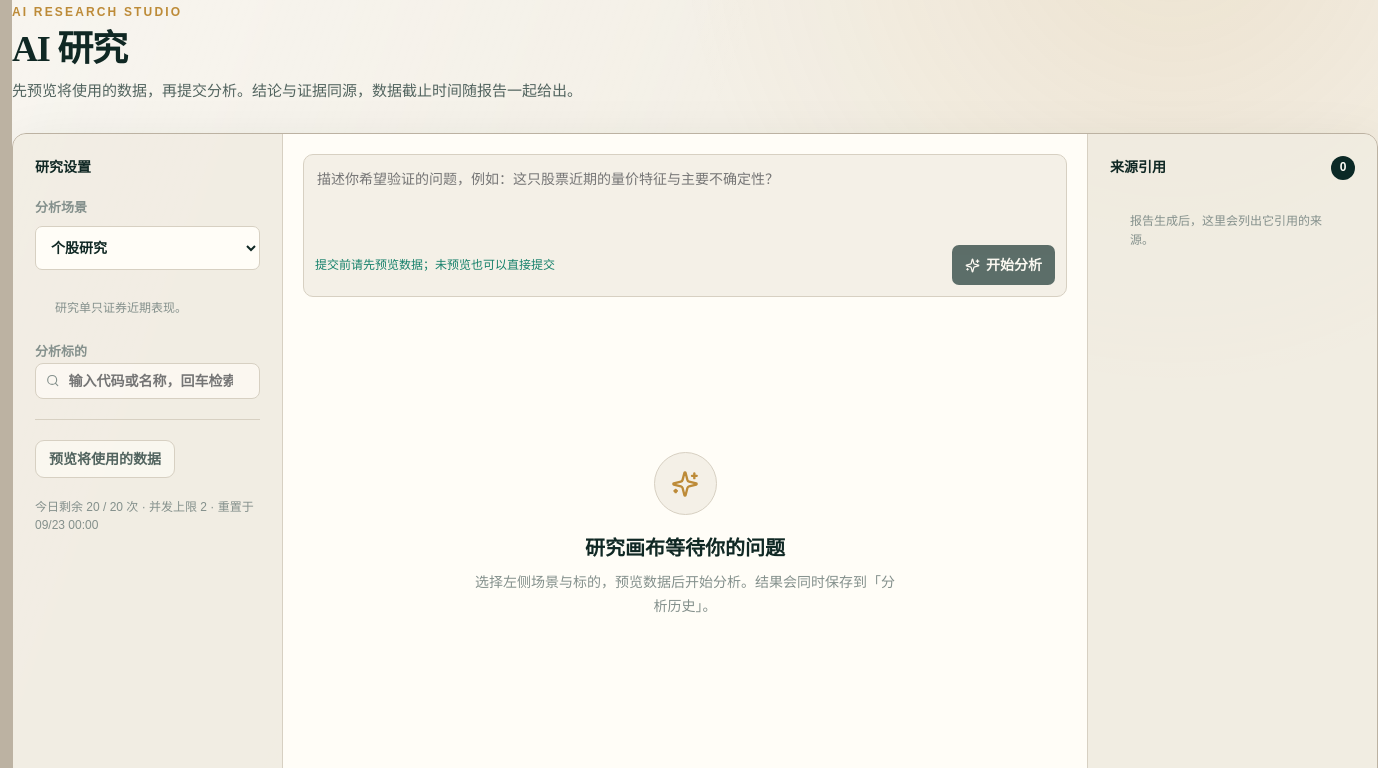
AI 研究工作台 › SSE 不可用时退回每 3 秒轮询，闭环不断
Step 1. Type "600519" into the search field labelled "分析标的" → (158, 381), box [66,369,249,393]
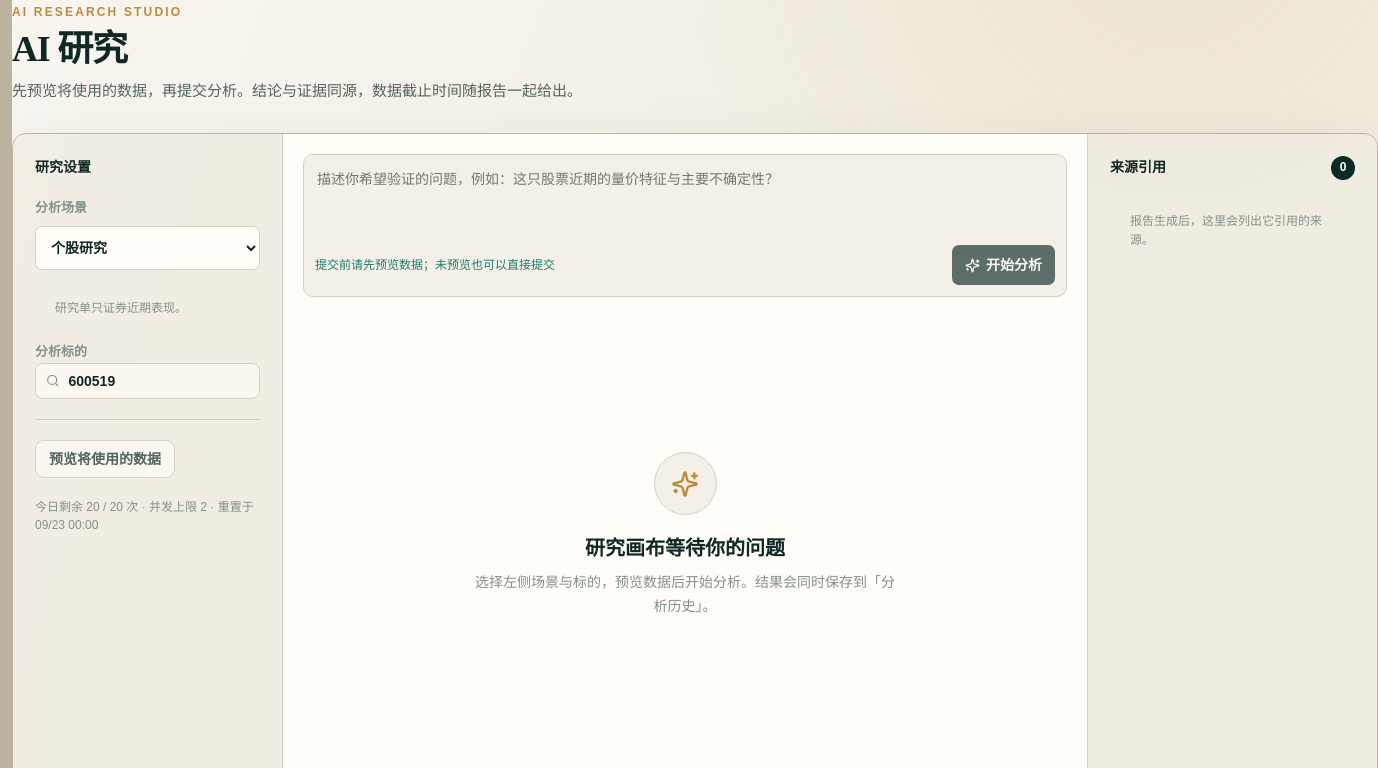
Step 2. Press Enter in the search field labelled "分析标的", box [66,369,249,393]
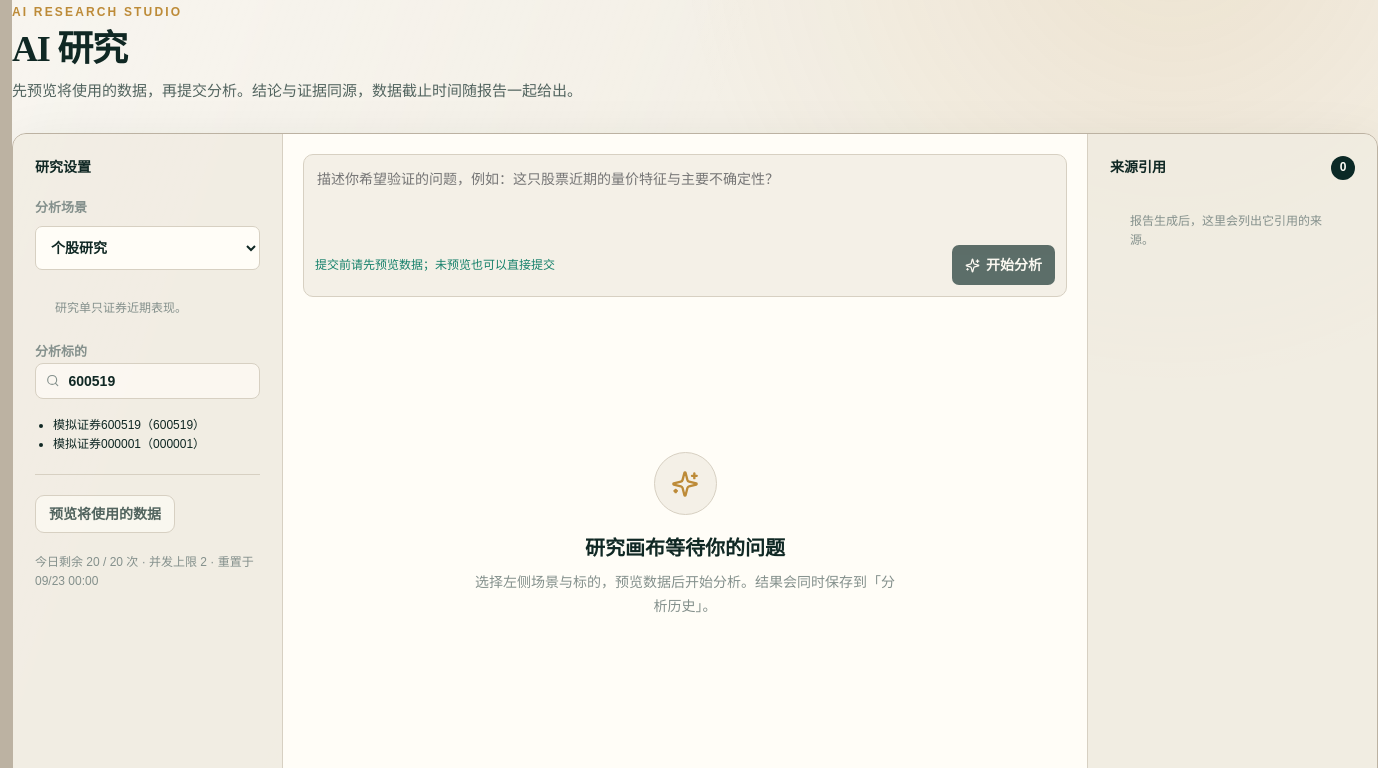
Step 3. Click the button "模拟证券600519（600519）" → click(129, 425), box [53,416,205,435]
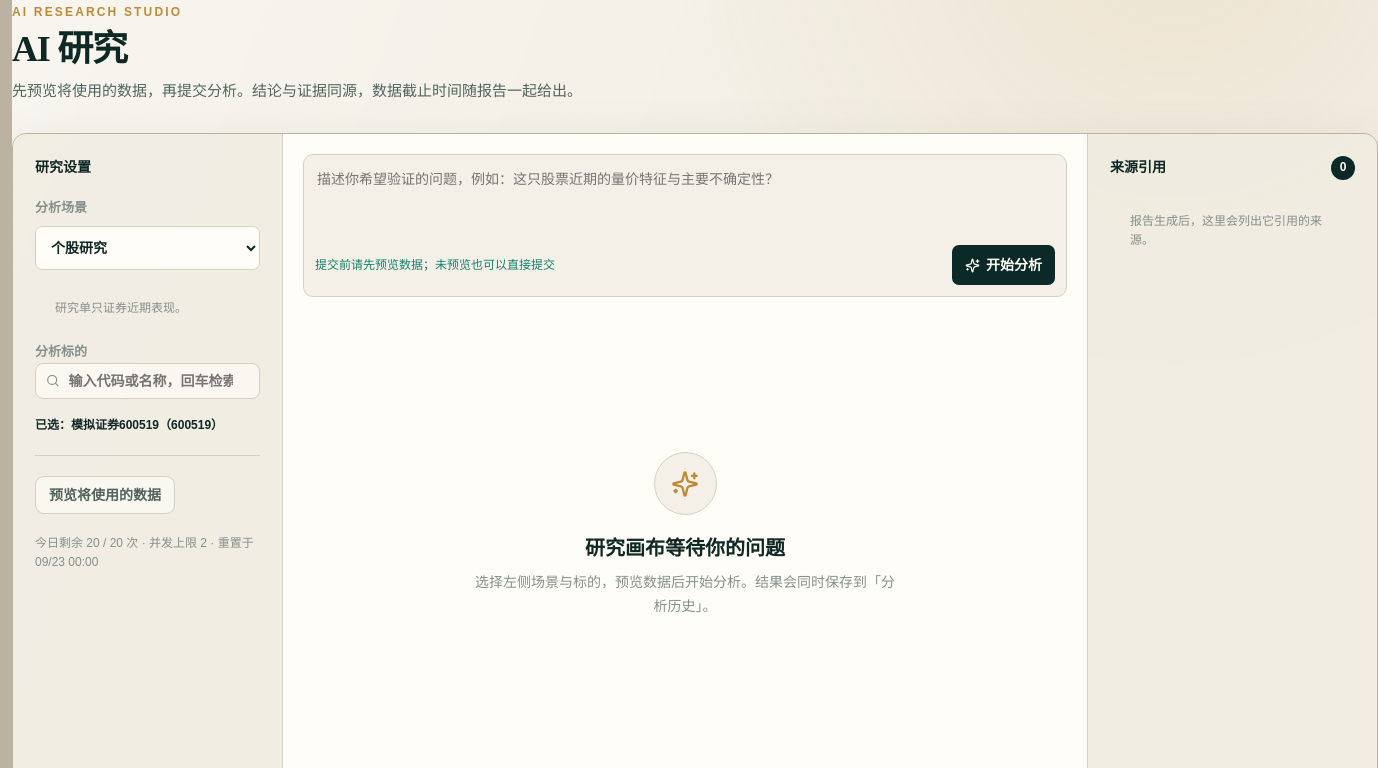
Step 4. Click the button "开始分析" → click(1004, 265), box [952,245,1055,285]
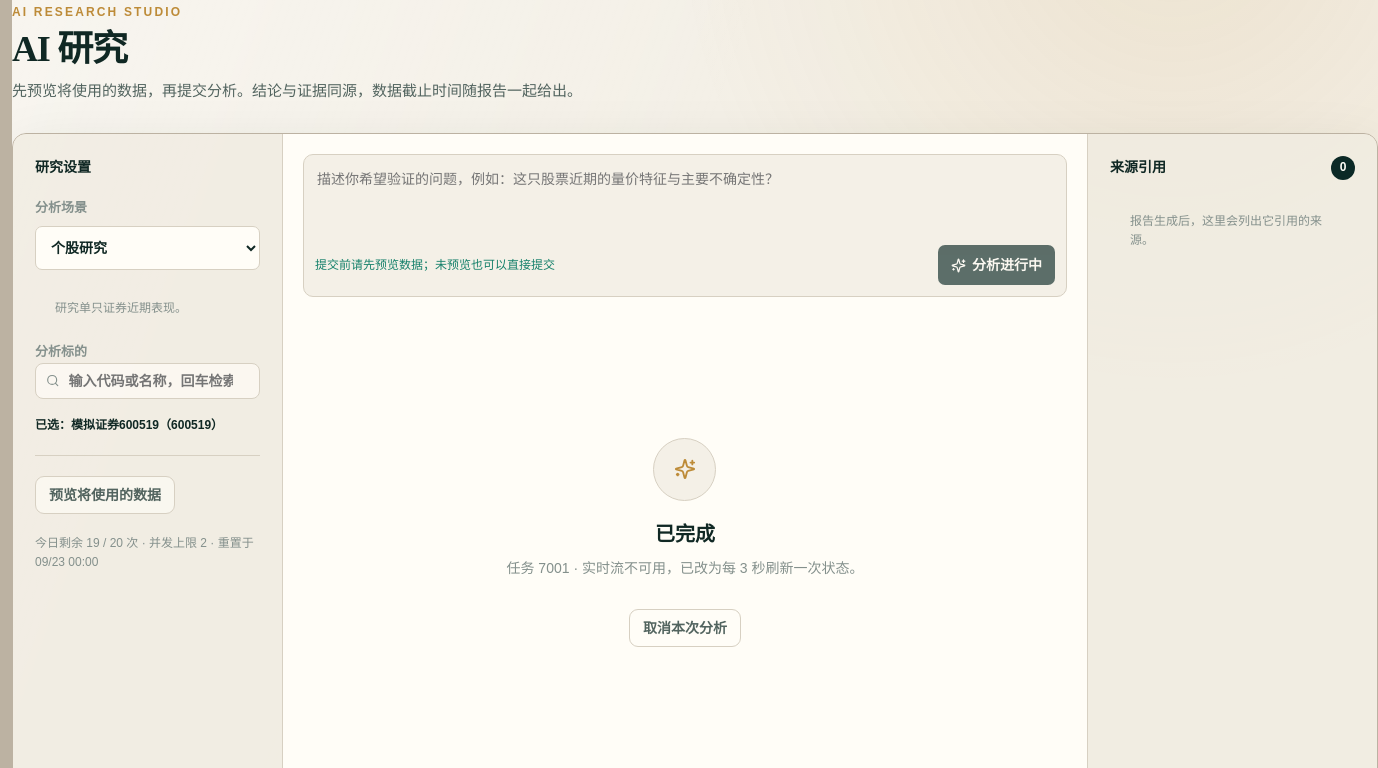
Check: the text "实时流不可用" is shown, box [506,560,864,576]
